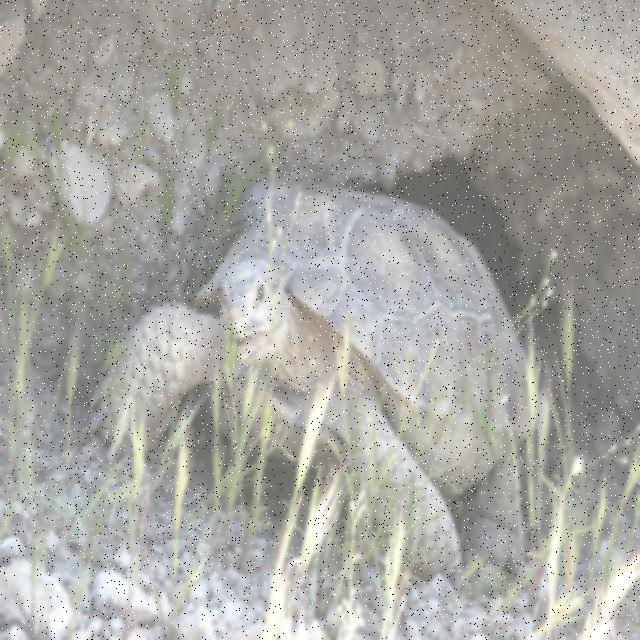tortoise: (89, 177, 545, 586)
